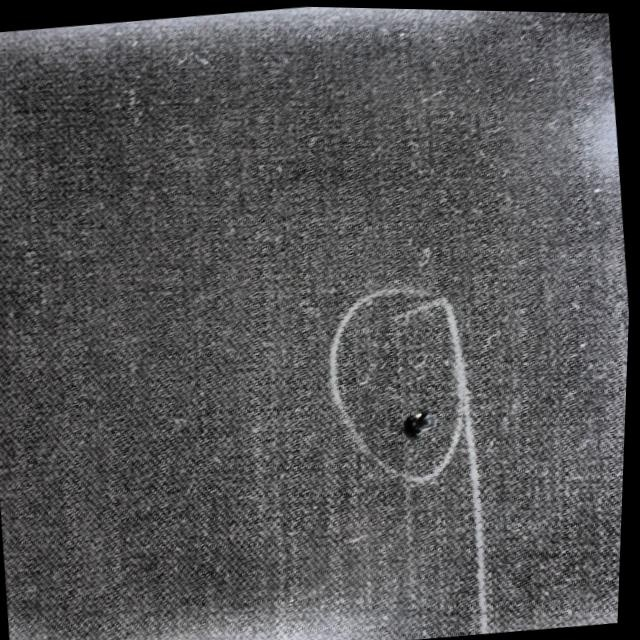Hole: (380, 398, 454, 452), (389, 403, 449, 447)
